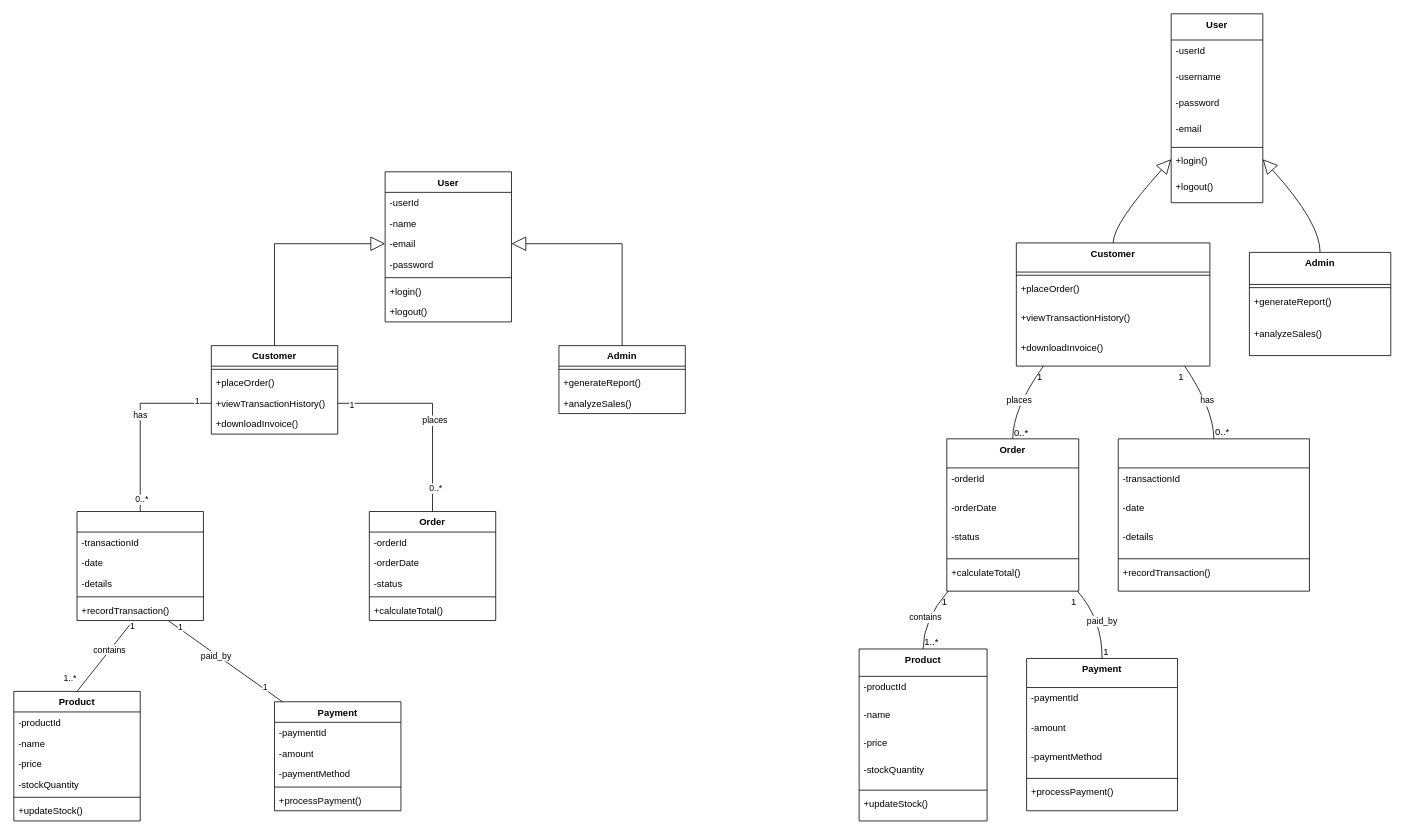
Image size: 1405x837. Some labels were removed from this diagram. The shapes that lost their labels are listed below. From the top down, each one's box as (x1, y1, x2, y2) in pixels, then its label:
(1117, 438, 1309, 591): TransactionHistory
(76, 511, 203, 621): TransactionHisstory
